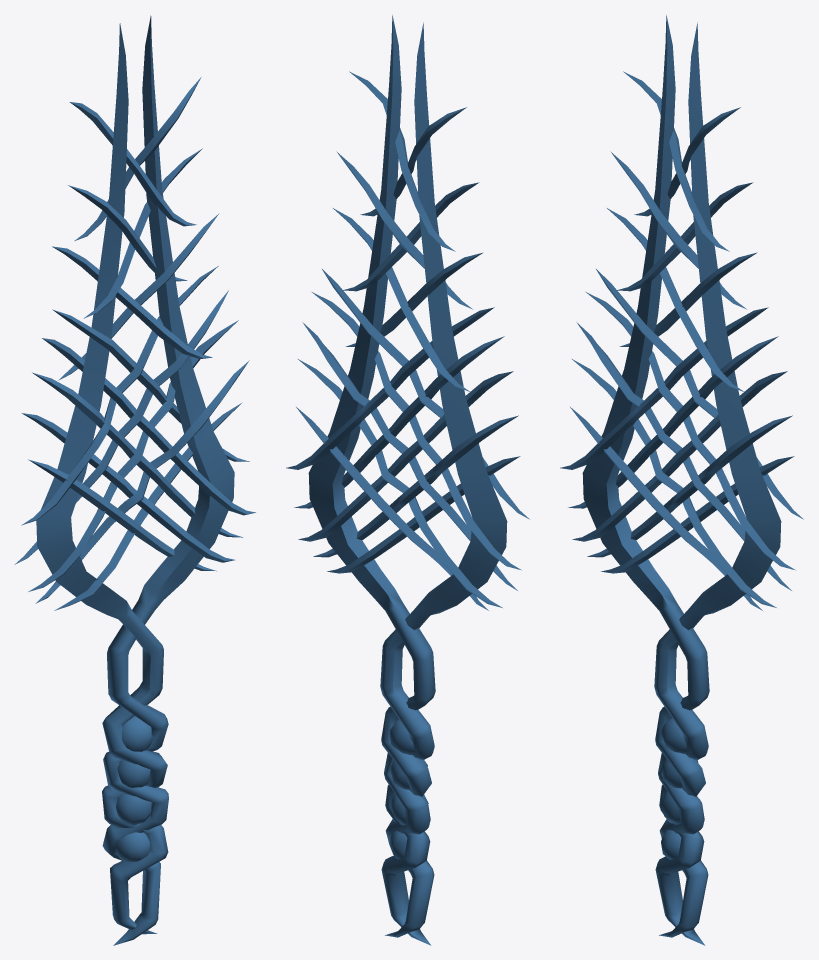
Rendered from 12-Woven.glb.
3 renders of one model, left to right at view 1: azimuth 30°, elevation 25°; view 2: azimuth 150°, elevation 25°; view 3: azimuth 330°, elevation 25°, orthographic.
Parts seen in each view (by area): view 1: b, a, s; view 2: a, b, s; view 3: b, a, s.
Part boxes in pixels (x1,y1,x2,y2): b: (21, 23, 255, 934); a: (14, 15, 249, 945); s: (116, 716, 153, 861); a: (296, 15, 529, 945); b: (286, 22, 520, 937); s: (389, 718, 428, 859); b: (570, 15, 803, 945); a: (560, 22, 794, 937); s: (661, 718, 698, 859).
Size of the model in its own units: 0.4404 by 1.63 by 0.0831.
